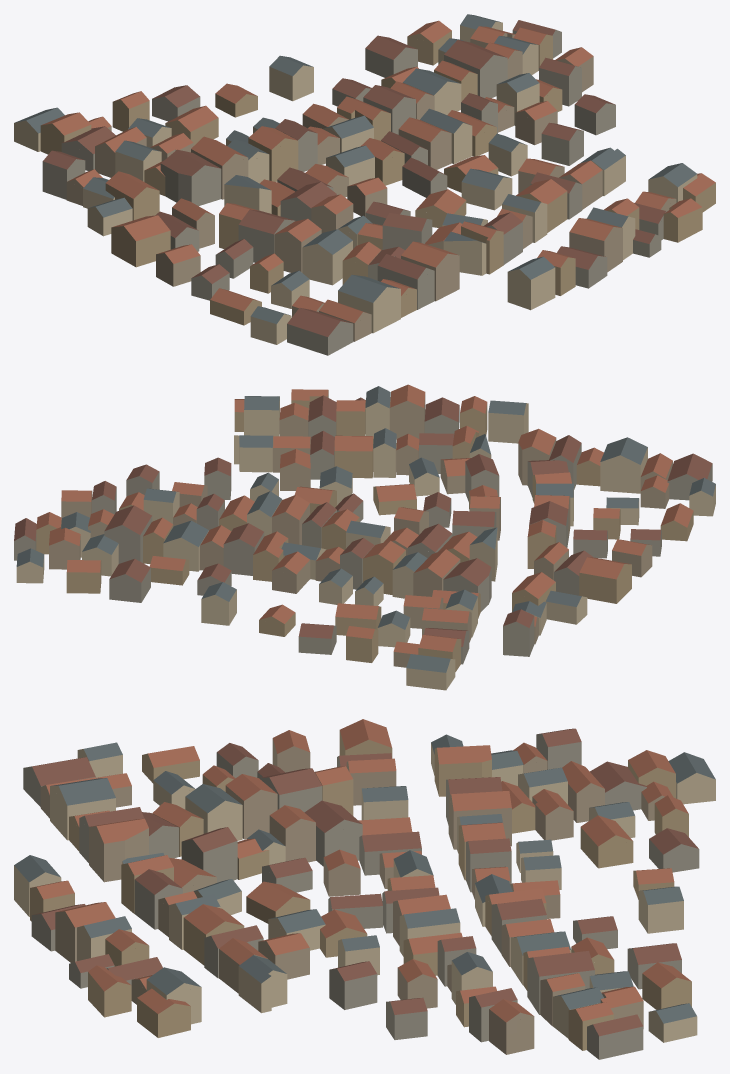
3 renders of one model, top to bottom at view 1: azimuth 30°, elevation 25°; view 2: azimuth 150°, elevation 25°; view 3: azimuth 270°, elevation 25°, orthographic. The views are drawn at different scales.
Visible parts, largest first — view 1: C_-2_-1; view 2: C_-2_-1; view 3: C_-2_-1.
Boxes of the visible parts, x1,y1,x2,y2 form: C_-2_-1: (14,14,715,355); C_-2_-1: (14,384,715,690); C_-2_-1: (14,719,715,1059).
Bounding box in the file's own units: 192 × 14.4 × 189.
